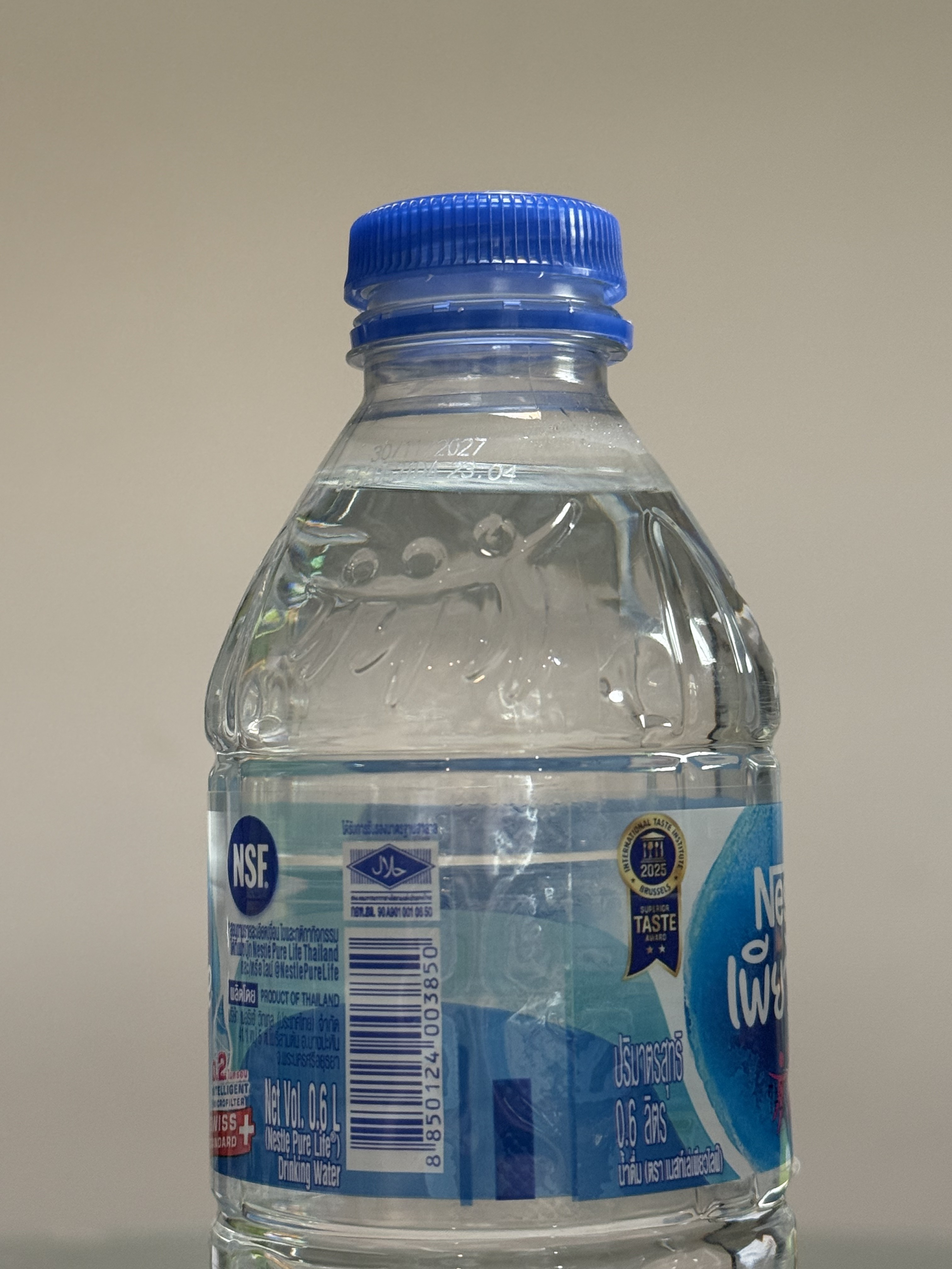half_cap: (337, 185, 637, 359)
